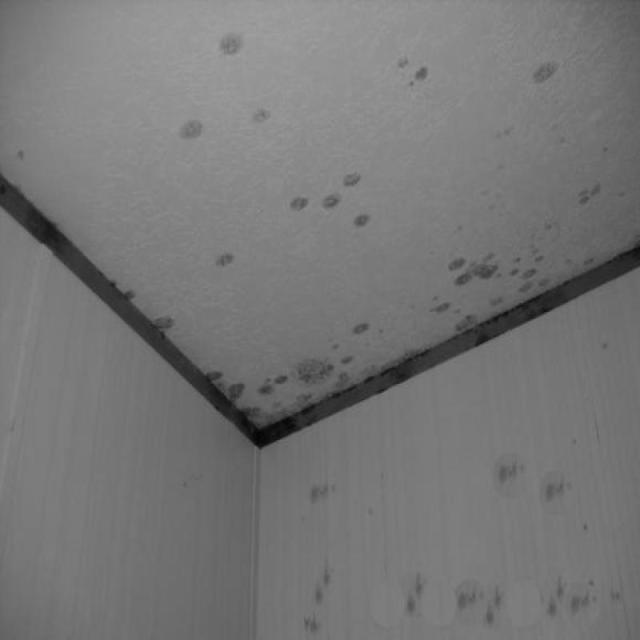stain marks: (107, 25, 609, 449), (294, 456, 630, 638)
